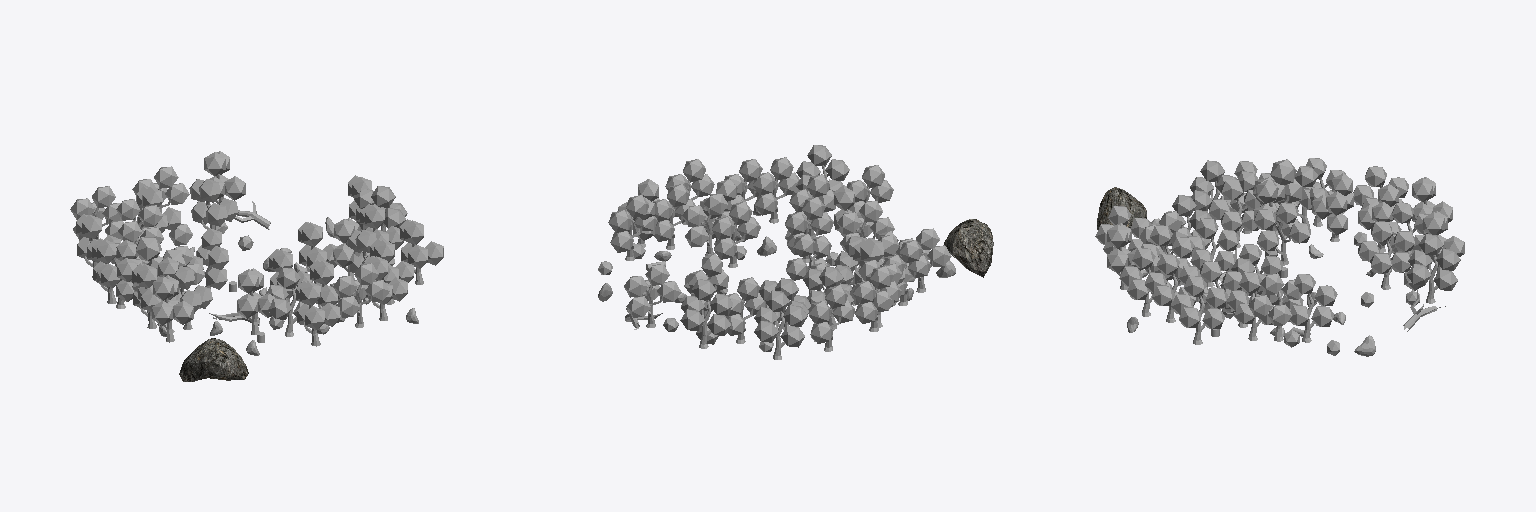
The picture shows the model from 3 angles: view 1: azimuth 30°, elevation 25°; view 2: azimuth 150°, elevation 25°; view 3: azimuth 270°, elevation 25°; orthographic projection.
Parts seen in each view (by area): view 1: Icosahedron154; view 2: Icosahedron154; view 3: Icosahedron154.
Boxes of the visible parts, x1=… form: Icosahedron154: x1=179, y1=338, x2=248, y2=381; Icosahedron154: x1=944, y1=219, x2=993, y2=277; Icosahedron154: x1=1097, y1=187, x2=1146, y2=229.
Size of the model in its own units: 40.97 by 11.46 by 44.05.
4 materials, 1 textured.